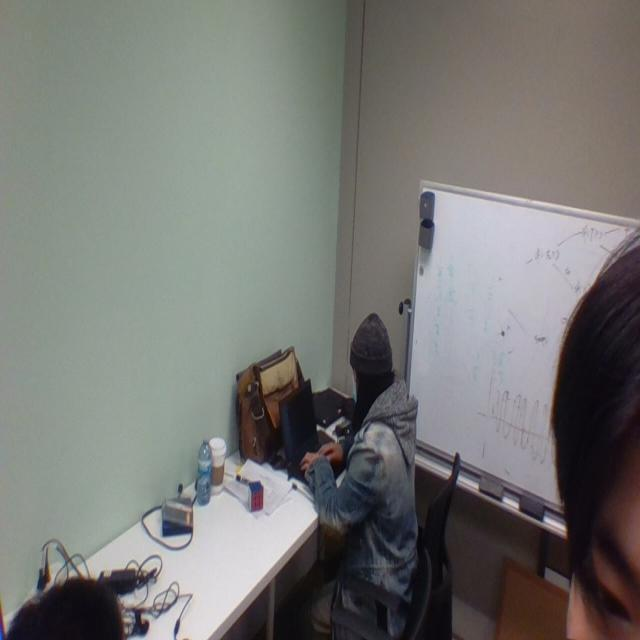chair: (375, 453, 499, 640)
